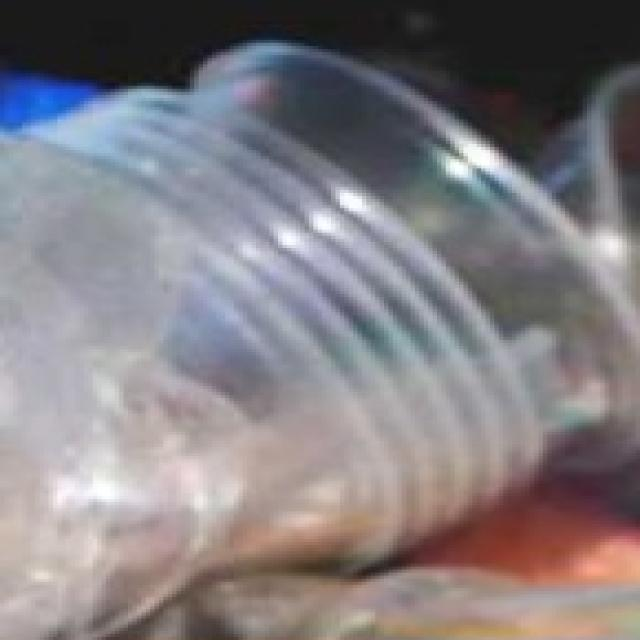plastic cup: (17, 0, 640, 621)
